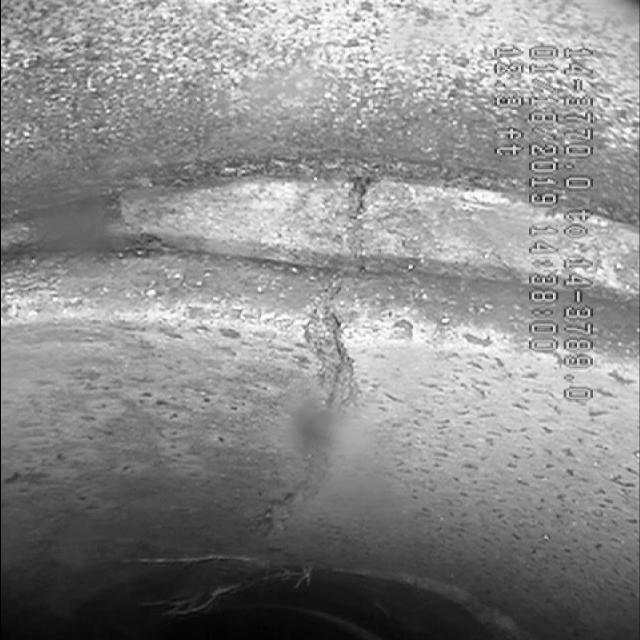Crack: (248, 288, 388, 538)
